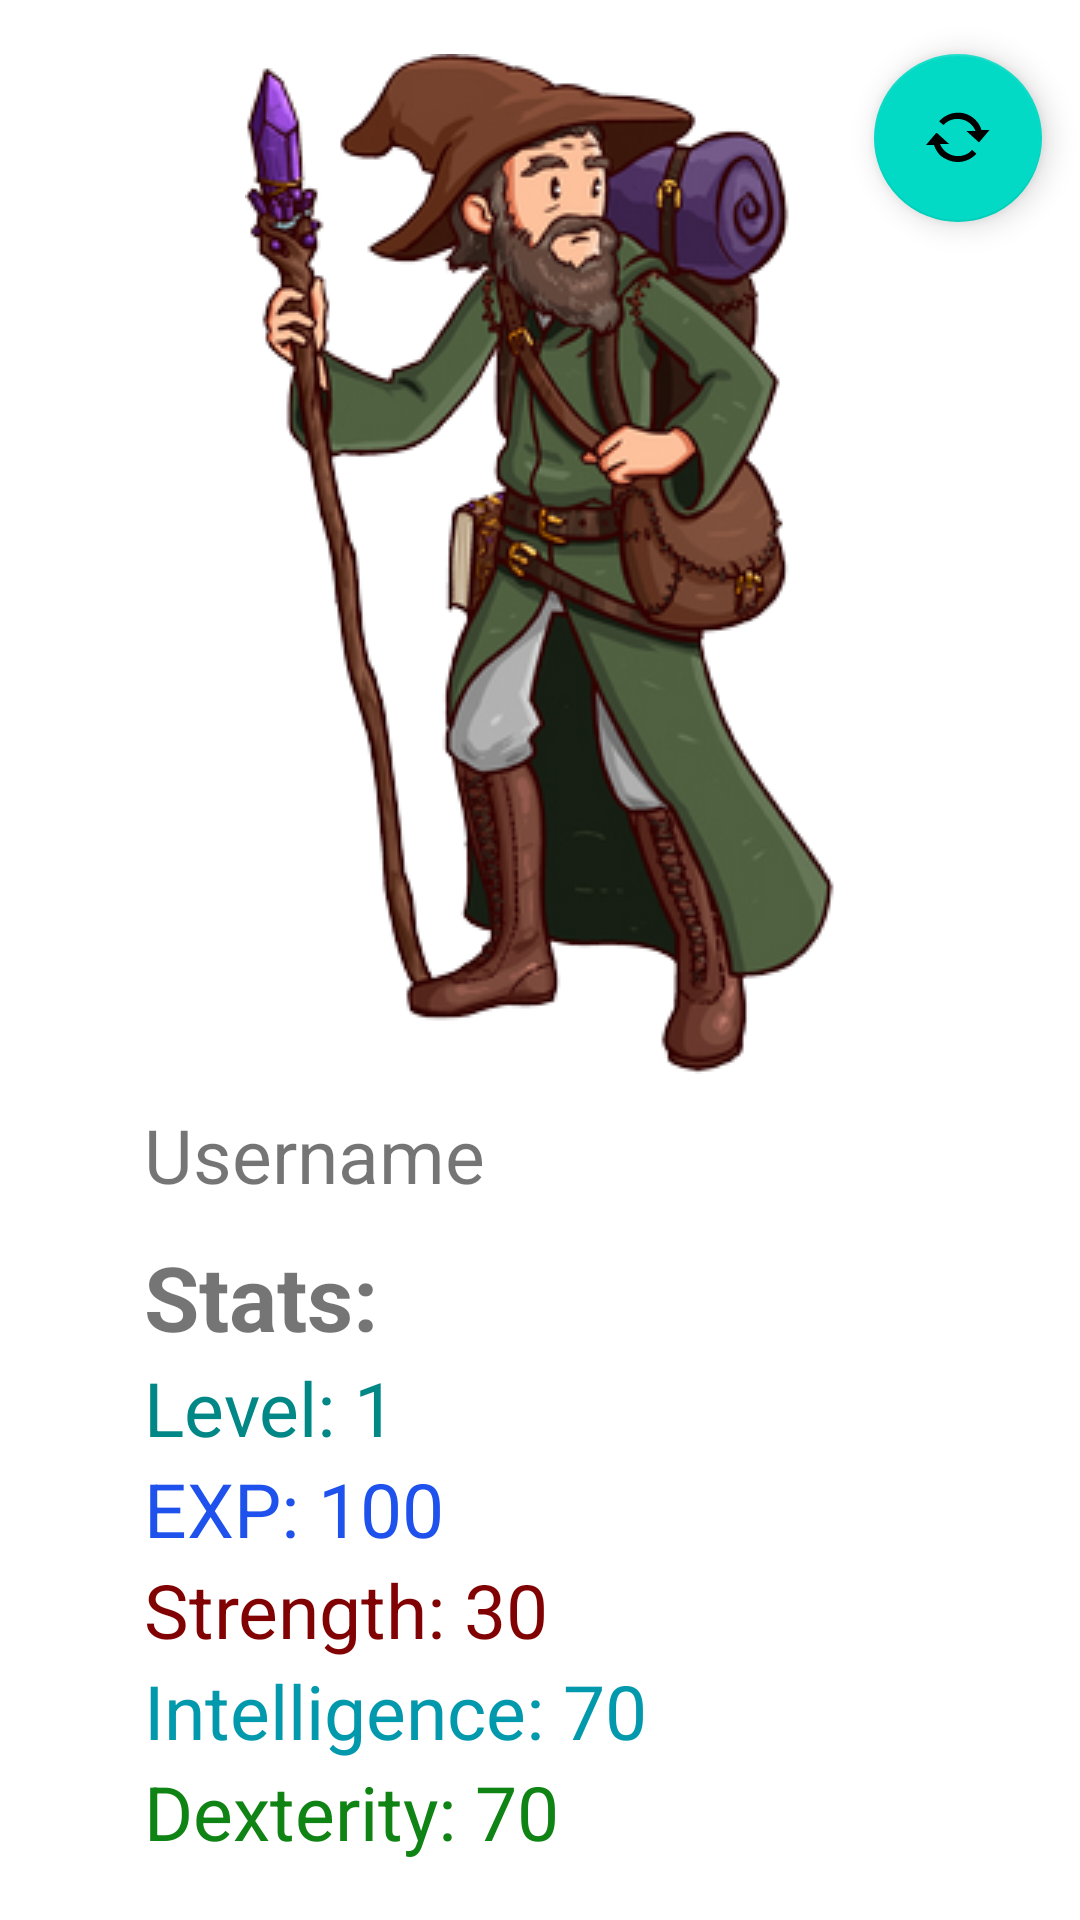

Locate icon controls on the screen. Image size 1080*1920, boxes as (x1, y1, x2, y2).
sync: (874, 54, 1042, 222)
